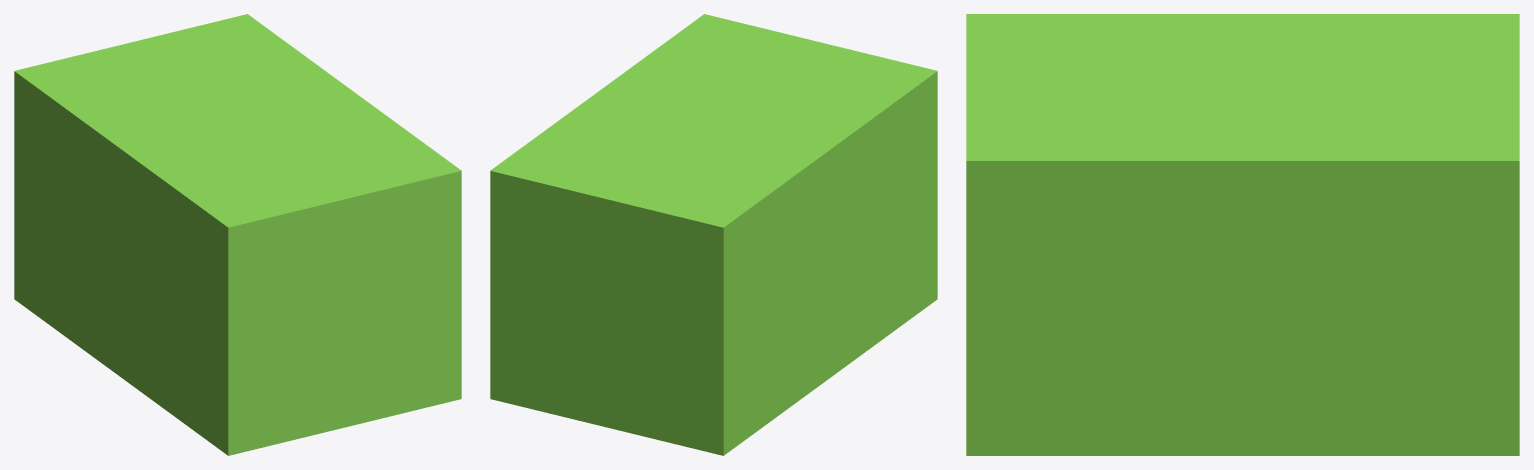
The model's file is shed_4_base.DAE.
3 views of the same model, side by side, from view 1: azimuth 30°, elevation 25°; view 2: azimuth 150°, elevation 25°; view 3: azimuth 270°, elevation 25° (orthographic). The views are drawn at different scales.
Visible parts, largest first — view 1: bounds; view 2: bounds; view 3: bounds.
Boxes of the visible parts, bbox=[...] form: bounds: bbox=[14, 14, 461, 455]; bounds: bbox=[490, 14, 937, 455]; bounds: bbox=[966, 14, 1519, 455].
Size of the model in its own units: 6.65 by 10.57 by 6.21.
